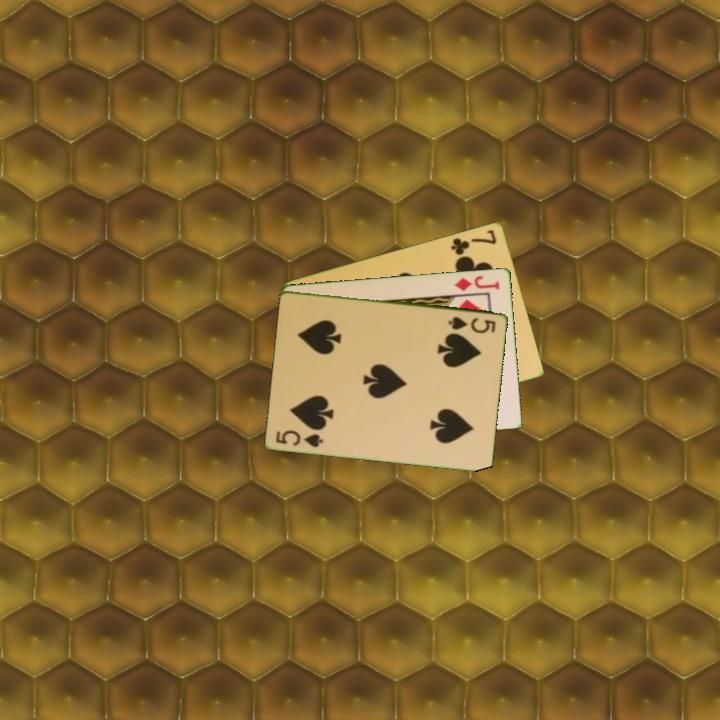5s: (273, 426, 326, 450), (445, 313, 499, 336)
7c: (447, 226, 499, 258)
Jd: (451, 272, 503, 294)
